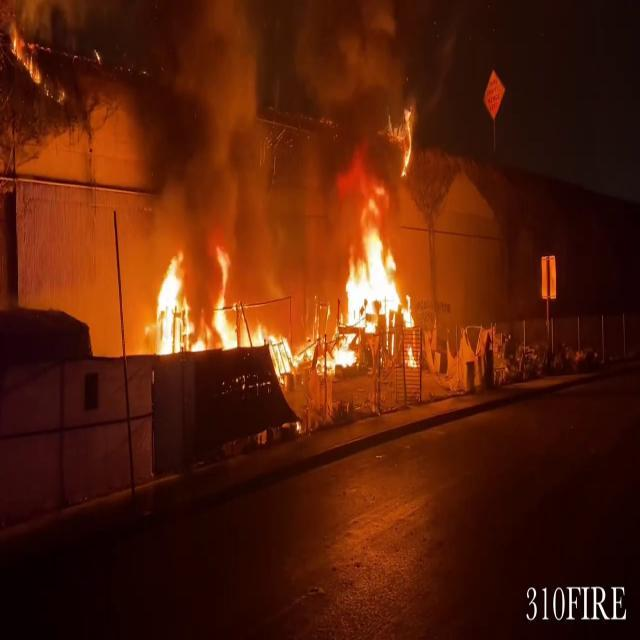Fire: (138, 230, 430, 390)
Smoke: (0, 0, 370, 263)
